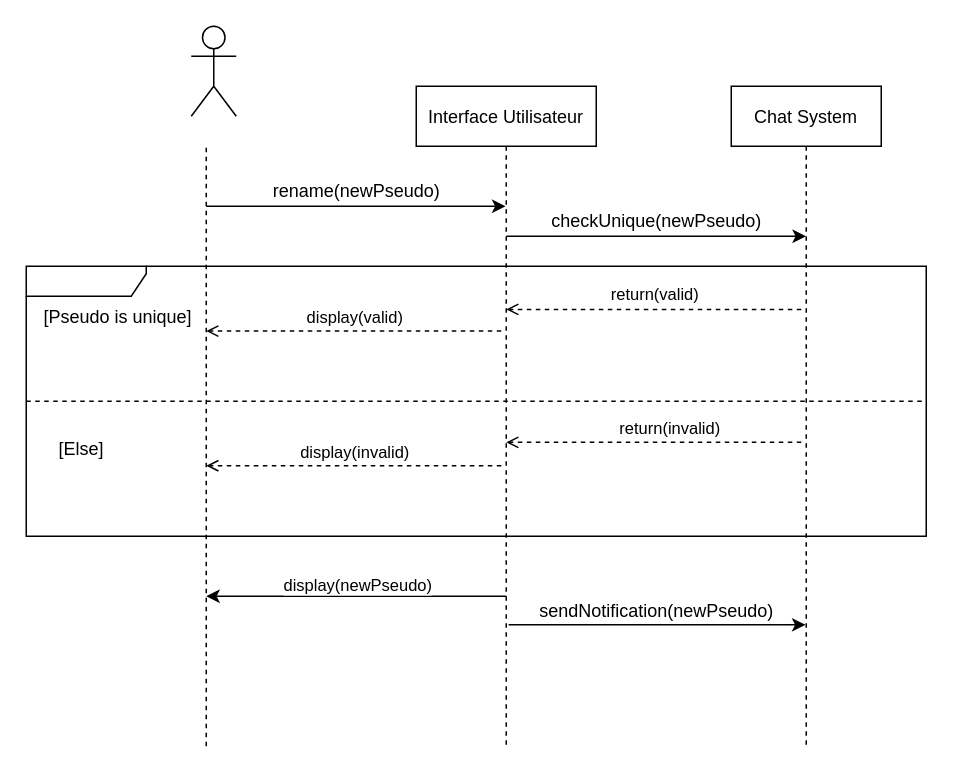
Some shapes in this 953 by 774 pixel diagram are drawn without their labels. Here are the shapes that lost their labels. From the top down, the centre of each, then its label:
At pixel 213 70: "User Local".
At pixel 475 400: "Alternative".
